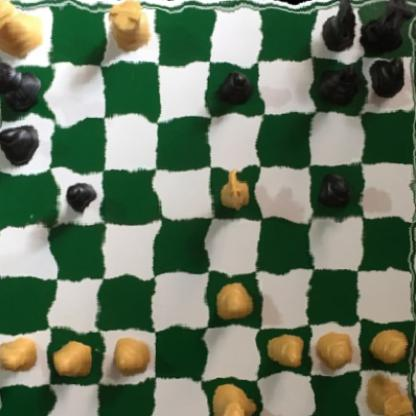black-bishop: (314, 54, 357, 111)
black-king: (0, 56, 48, 121)
black-knight: (322, 0, 363, 52)
black-pawn: (366, 54, 407, 103), (215, 66, 258, 111), (0, 123, 44, 161), (318, 171, 358, 211), (61, 173, 96, 218)
black-rook: (361, 0, 412, 53)
white-king: (204, 384, 252, 416)
white-knight: (216, 163, 254, 217)
white-pawn: (213, 277, 258, 325), (0, 331, 44, 376), (365, 329, 414, 368), (110, 334, 153, 376), (54, 335, 95, 379), (316, 330, 357, 372), (263, 332, 306, 372)
white-queen: (0, 0, 43, 60)
white-rook: (101, 0, 153, 57), (361, 366, 414, 416)
